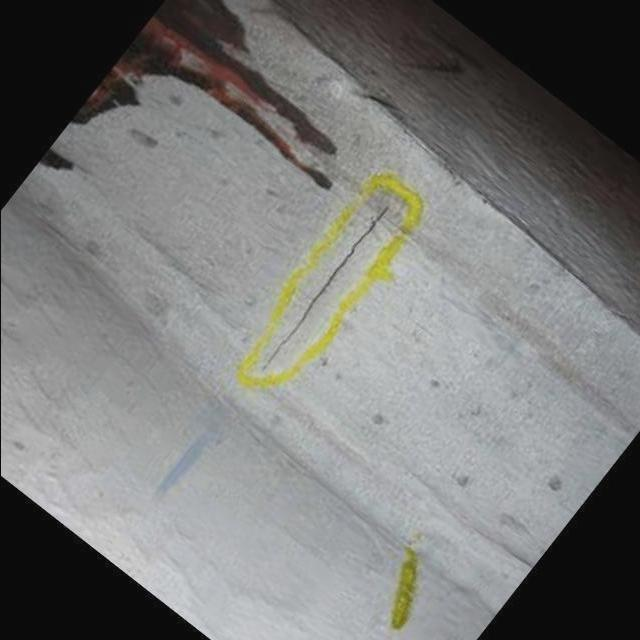defect: (254, 204, 389, 381)
